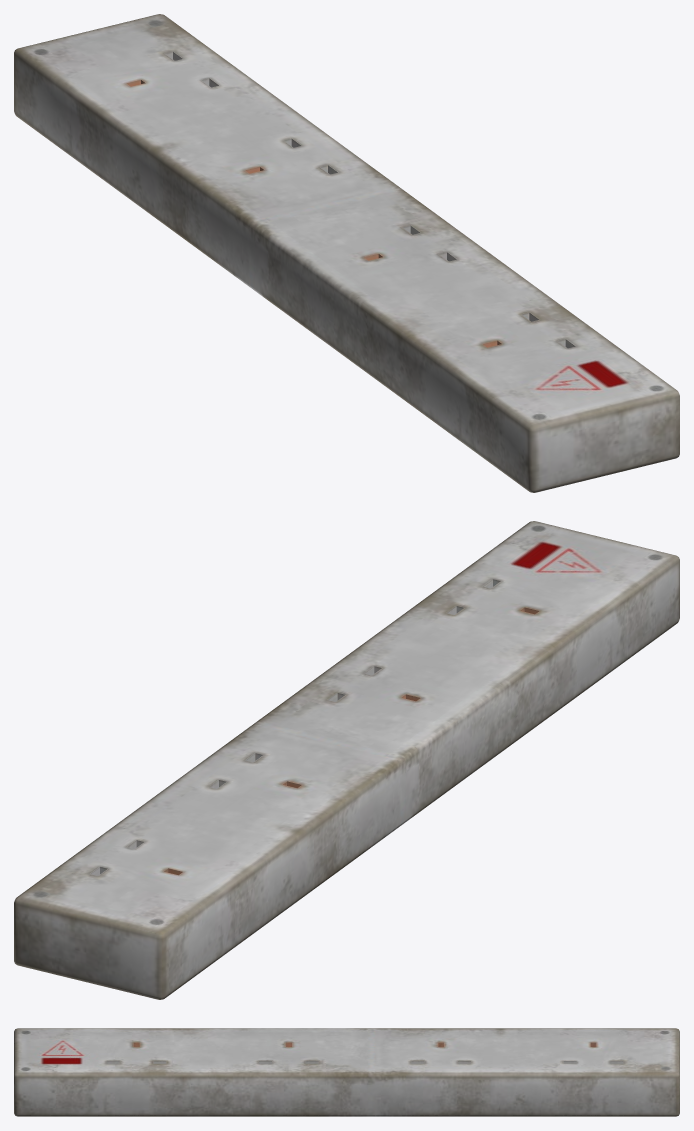
File: extension-lead-uk.glb
The picture shows the model from 3 angles, top to bottom: view 1: azimuth 30°, elevation 25°; view 2: azimuth 150°, elevation 25°; view 3: azimuth 270°, elevation 25°; orthographic projection. The views are drawn at different scales.
Parts seen in each view (by area): view 1: Object_6; view 2: Object_6; view 3: Object_6.
Boxes of the visible parts, x1=… form: Object_6: x1=14, y1=14, x2=679, y2=492; Object_6: x1=14, y1=521, x2=679, y2=999; Object_6: x1=14, y1=1028, x2=679, y2=1116.
Size of the model in its own units: 0.0978 by 0.0421 by 0.5832.
Materials: 1 (1 with a texture image).
